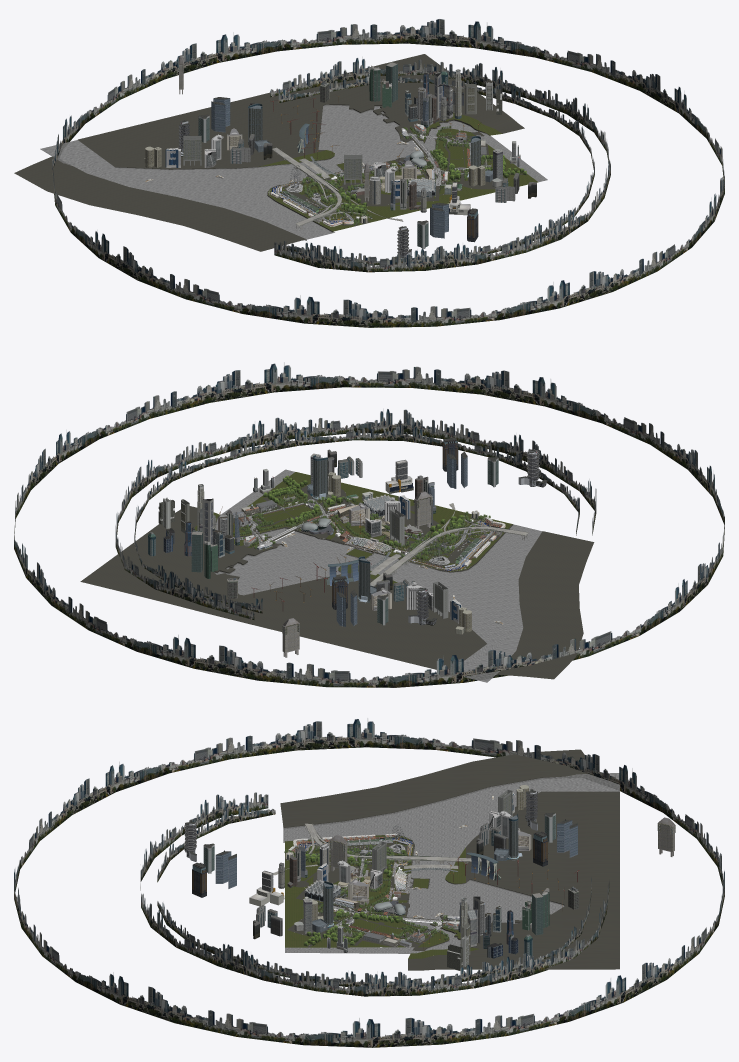
File: marina_bay.glb
3 renders of one model, top to bottom at view 1: azimuth 30°, elevation 25°; view 2: azimuth 150°, elevation 25°; view 3: azimuth 270°, elevation 25°, orthographic. The views are drawn at different scales.
Visible parts, largest first — view 1: Object_6, Object_100, Object_4, Object_101, Object_64, Object_18, Object_60, Object_33, Object_86, Object_63, Object_59, Object_75 (+5 smaller); view 2: Object_6, Object_100, Object_4, Object_101, Object_64, Object_18, Object_86, Object_75, Object_43, Object_33, Object_63, Object_62 (+9 smaller); view 3: Object_6, Object_100, Object_4, Object_101, Object_64, Object_18, Object_75, Object_33, Object_63, Object_86, Object_43, Object_62 (+8 smaller).
Part boxes in pixels (<box>): Object_6: <box>52,19,724,327</box>; Object_100: <box>14,54,527,251</box>; Object_4: <box>40,104,547,240</box>; Object_101: <box>258,112,538,231</box>; Object_64: <box>178,97,478,259</box>; Object_18: <box>302,126,526,225</box>; Object_60: <box>390,93,446,212</box>; Object_33: <box>230,134,536,202</box>; Object_86: <box>272,147,402,230</box>; Object_63: <box>320,62,397,107</box>; Object_59: <box>454,69,502,118</box>; Object_75: <box>248,103,492,182</box>; Object_6: <box>14,362,724,687</box>; Object_100: <box>80,485,594,679</box>; Object_4: <box>214,469,542,682</box>; Object_101: <box>194,472,512,583</box>; Object_64: <box>332,438,547,626</box>; Object_18: <box>233,475,490,560</box>; Object_86: <box>370,503,528,586</box>; Object_75: <box>307,455,376,603</box>; Object_43: <box>282,491,432,657</box>; Object_33: <box>327,449,418,601</box>; Object_63: <box>191,530,237,598</box>; Object_62: <box>163,498,213,556</box>; Object_6: <box>14,718,724,1047</box>; Object_100: <box>280,749,619,970</box>; Object_4: <box>283,773,619,953</box>; Object_101: <box>285,835,479,958</box>; Object_64: <box>184,789,577,897</box>; Object_18: <box>284,844,457,946</box>; Object_75: <box>312,813,522,932</box>; Object_33: <box>253,823,506,939</box>; Object_63: <box>522,886,578,935</box>; Object_86: <box>273,823,489,875</box>; Object_43: <box>329,817,675,871</box>; Object_62: <box>473,896,518,958</box>.
Size of what is drawn, in the model's own units: 4301 by 385 by 4301.
99 materials, 97 textured.
